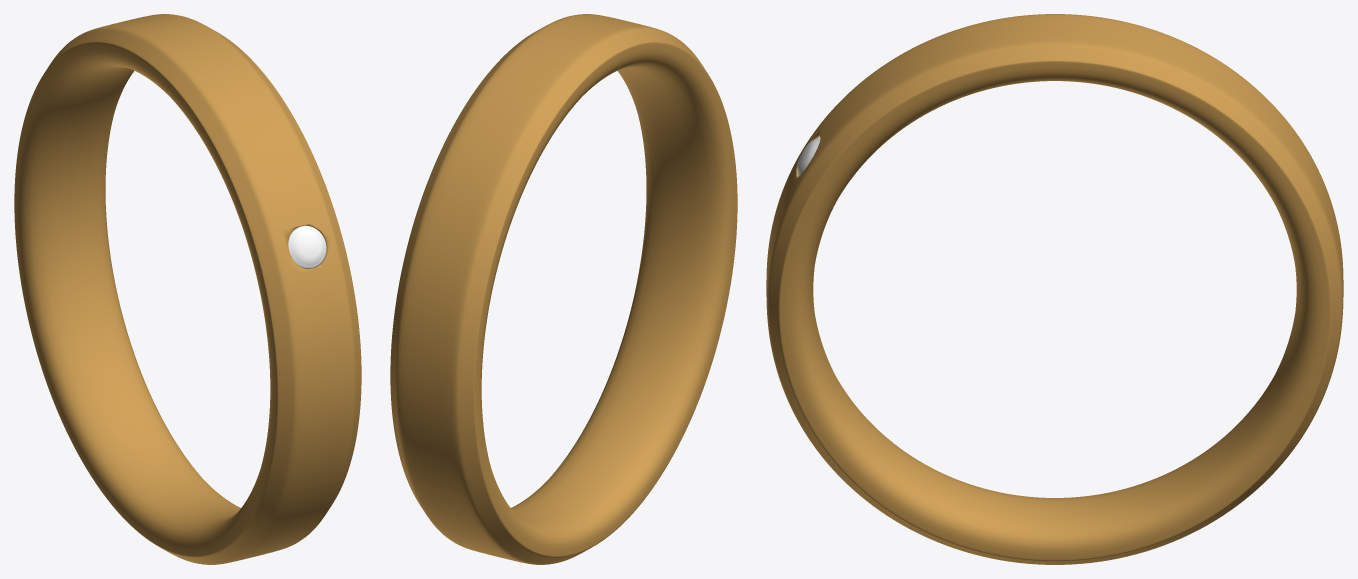
The model's file is Single Color_Single Diamond.glb.
3 views of the same model, side by side, from view 1: azimuth 30°, elevation 25°; view 2: azimuth 150°, elevation 25°; view 3: azimuth 270°, elevation 25° (orthographic). The views are drawn at different scales.
Visible parts, largest first — view 1: Single Diamond Base, Single Diamond; view 2: Single Diamond Base; view 3: Single Diamond Base.
Boxes of the visible parts, x1,y1,x2,y2 form: Single Diamond Base: (14, 14, 361, 564); Single Diamond: (288, 225, 326, 268); Single Diamond Base: (390, 14, 737, 564); Single Diamond Base: (766, 14, 1343, 564).
Size of the model in its own units: 0.00414 by 0.0234 by 0.0234.
